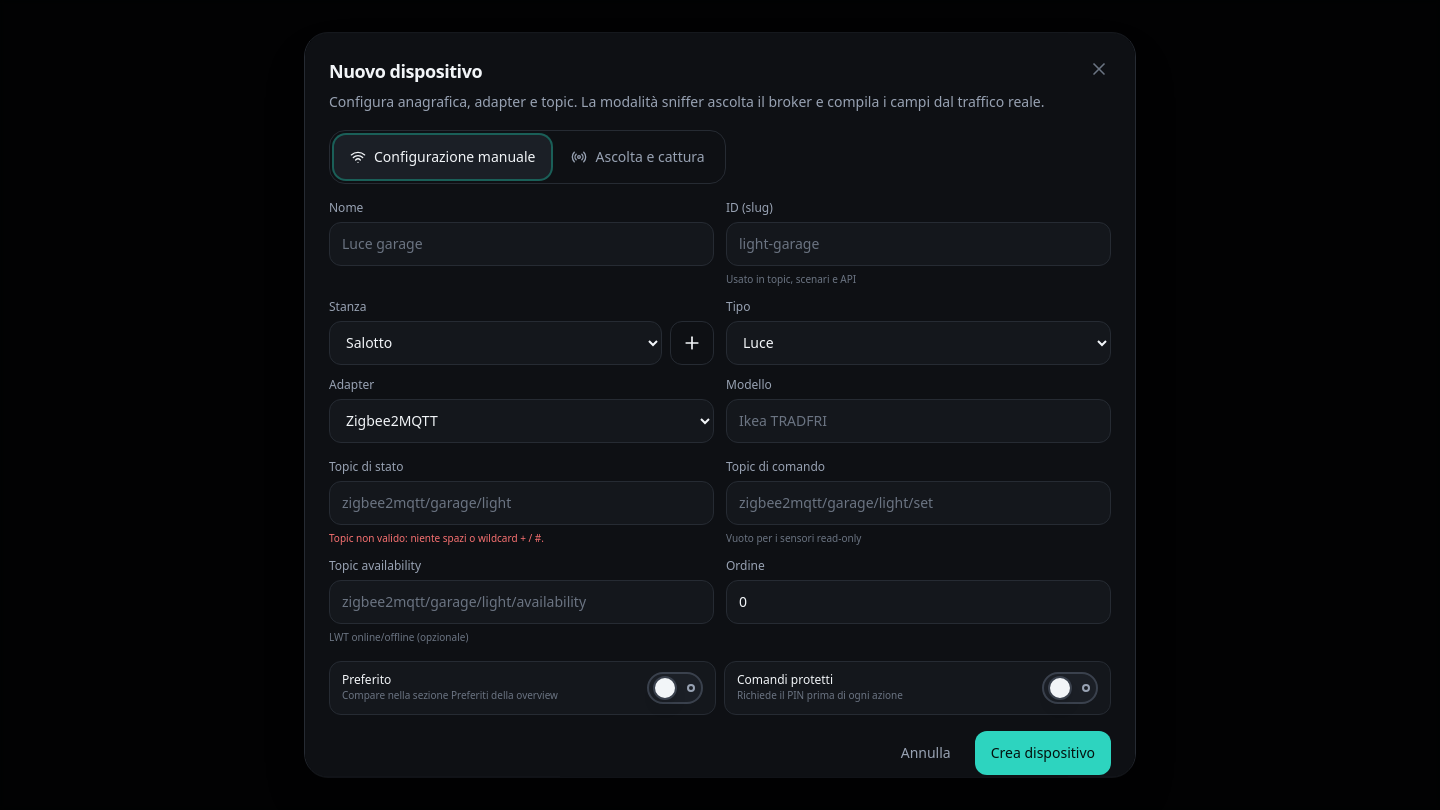
Test case: DeviceFormDialog › compila adapter e topic dal messaggio catturato dallo sniffer
Click the tab "Ascolta e cattura" at coordinates (638, 157), box [556,135,721,179]
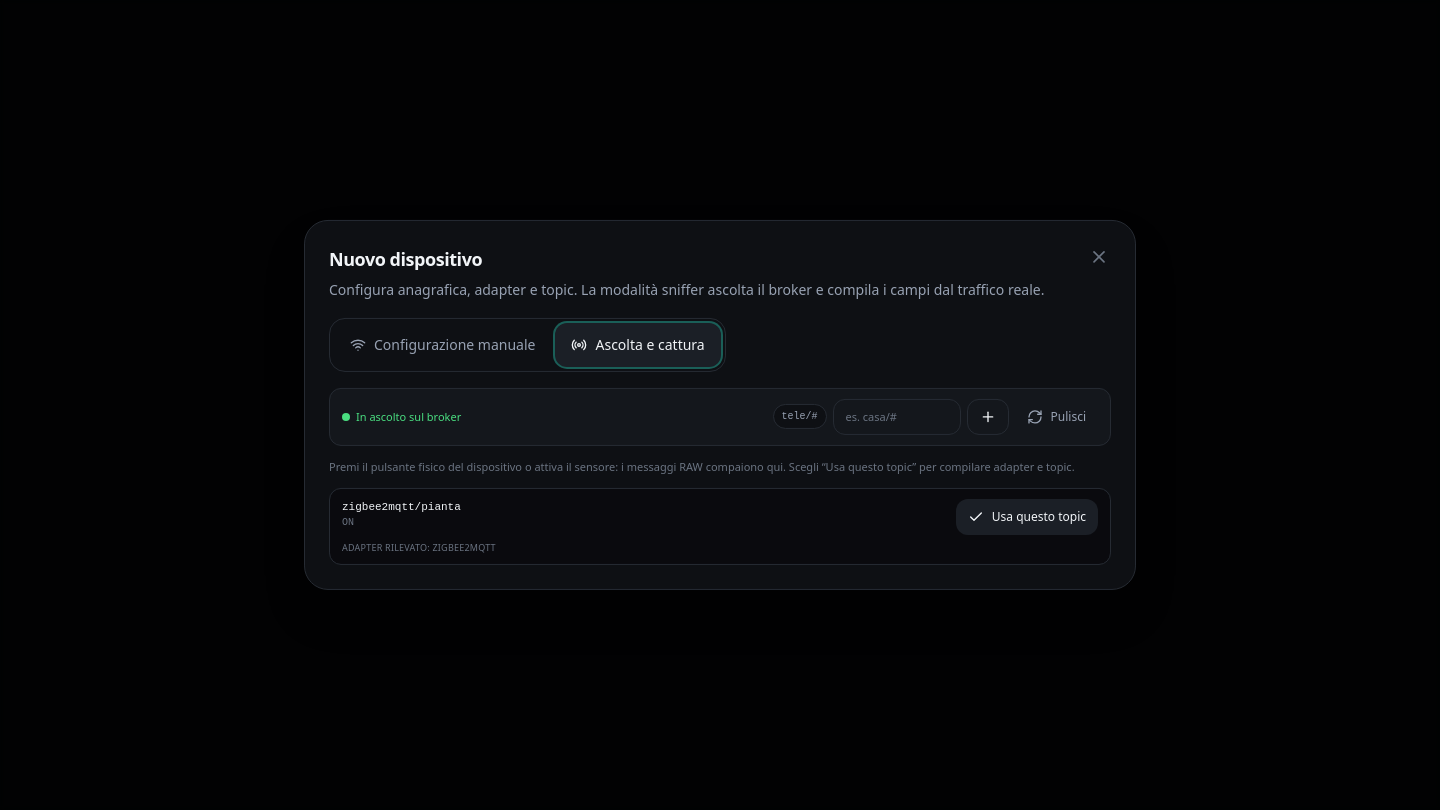
Expected: the text "zigbee2mqtt/pianta" is shown, [342,499,461,515]
Click the button "Usa questo topic" at coordinates (1027, 517), box [956,499,1098,535]
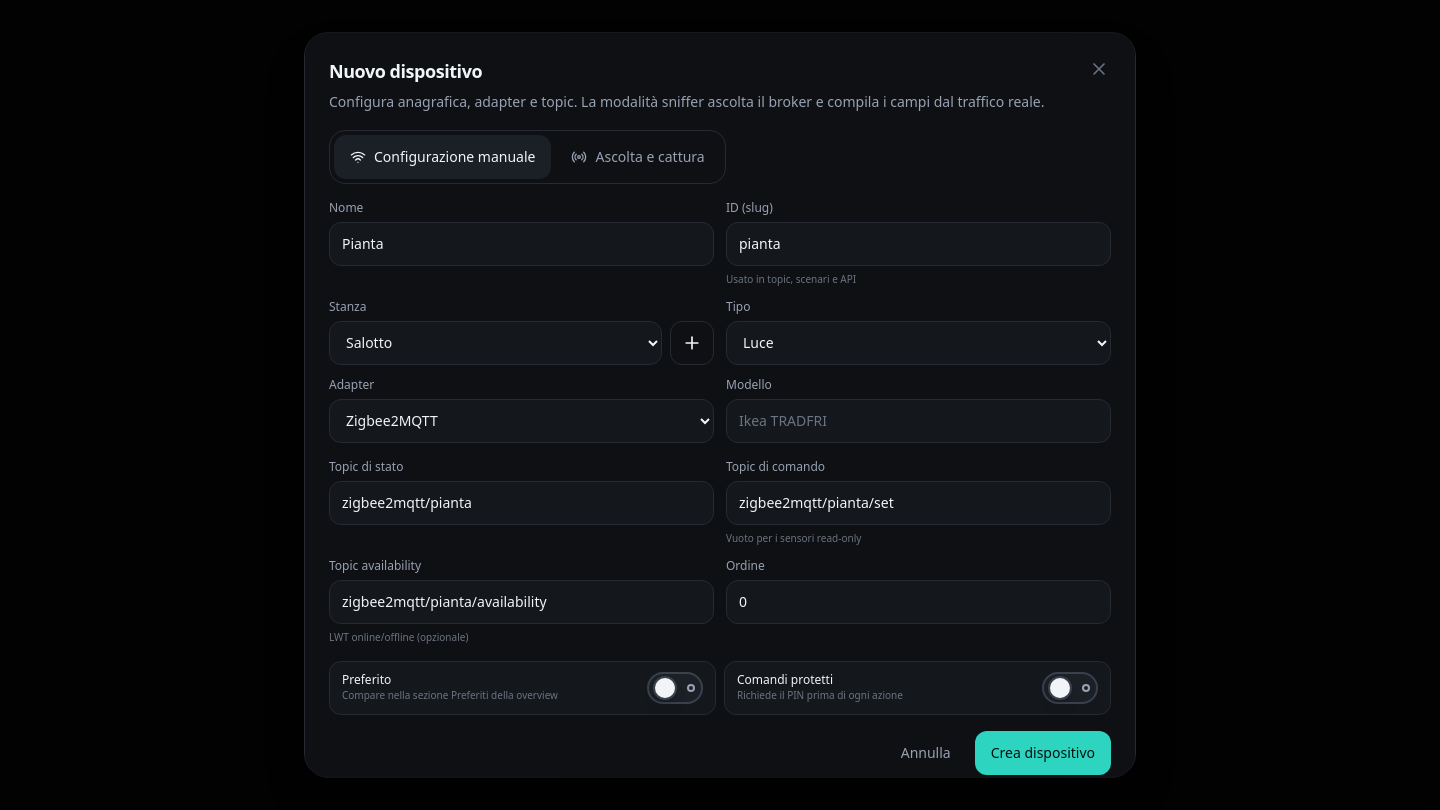
Expected: the field labelled "Nome" holds "Pianta", [329,222,714,266]
Expected: the field labelled "Topic di stato" holds "zigbee2mqtt/pianta", [329,481,714,525]
Expected: the field labelled "Topic di comando" holds "zigbee2mqtt/pianta/set", [726,481,1111,525]
